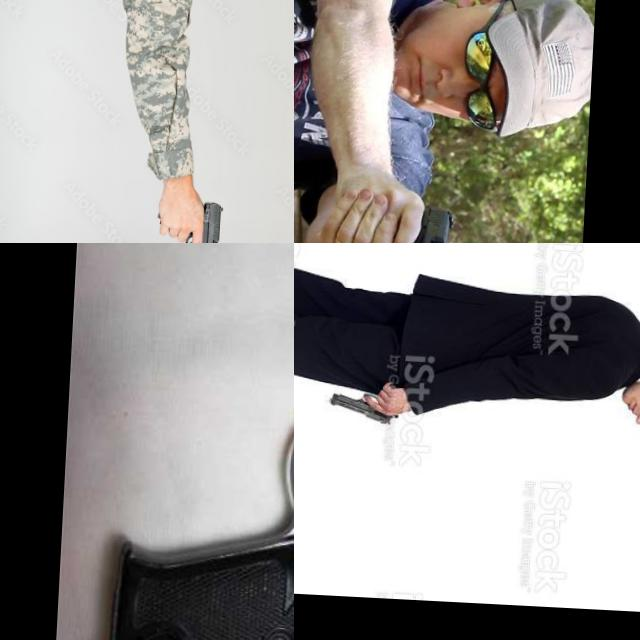handgun: (88, 243, 294, 640), (373, 199, 456, 243), (150, 195, 224, 243), (324, 386, 406, 428)
